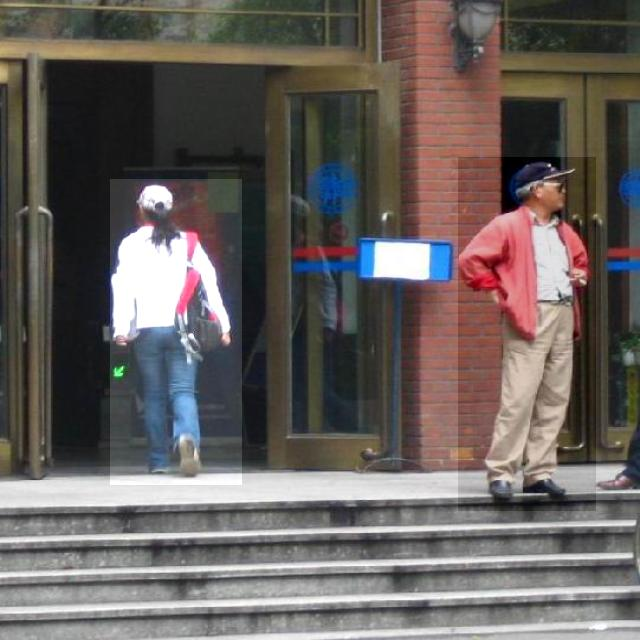with scooter: (458, 157, 596, 511), (110, 179, 242, 485)
